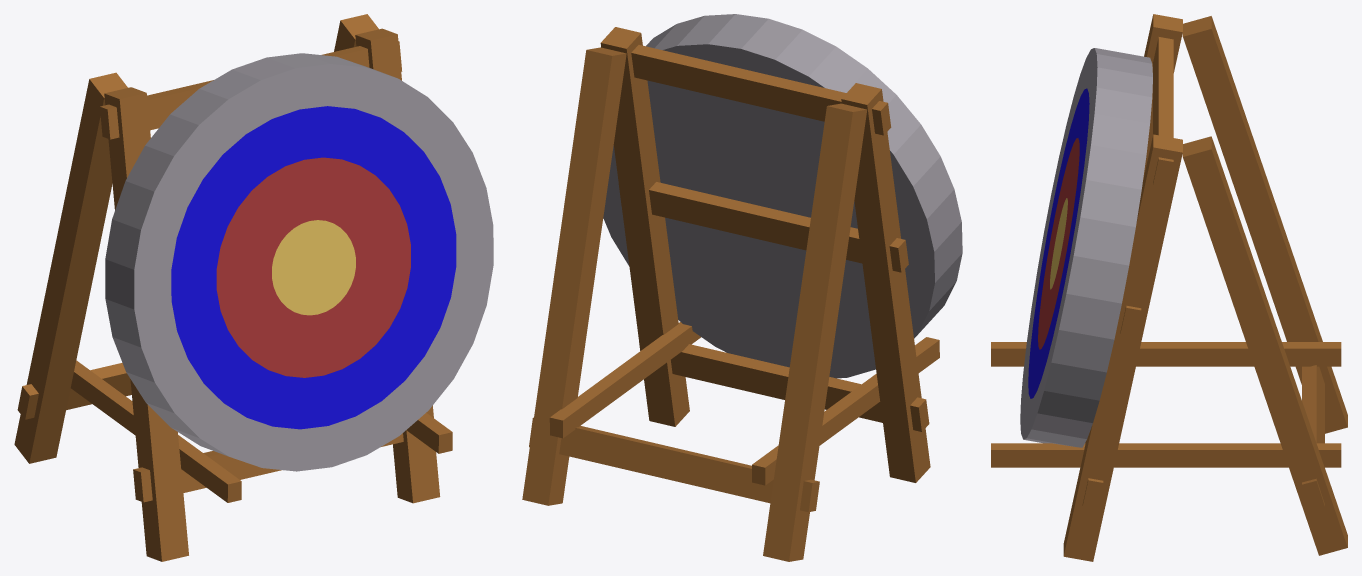
File: Archery.fbx
3 renders of one model, left to right at view 1: azimuth 30°, elevation 25°; view 2: azimuth 150°, elevation 25°; view 3: azimuth 270°, elevation 25°, orthographic. The views are drawn at different scales.
Parts seen in each view (by area): view 1: Circle.008; view 2: Circle.008; view 3: Circle.008.
Boxes of the visible parts, x1,y1,x2,y2 form: Circle.008: (14, 14, 493, 561); Circle.008: (522, 14, 962, 561); Circle.008: (991, 14, 1347, 561).
Bounding box in the file's own units: 172 × 207 × 154.
